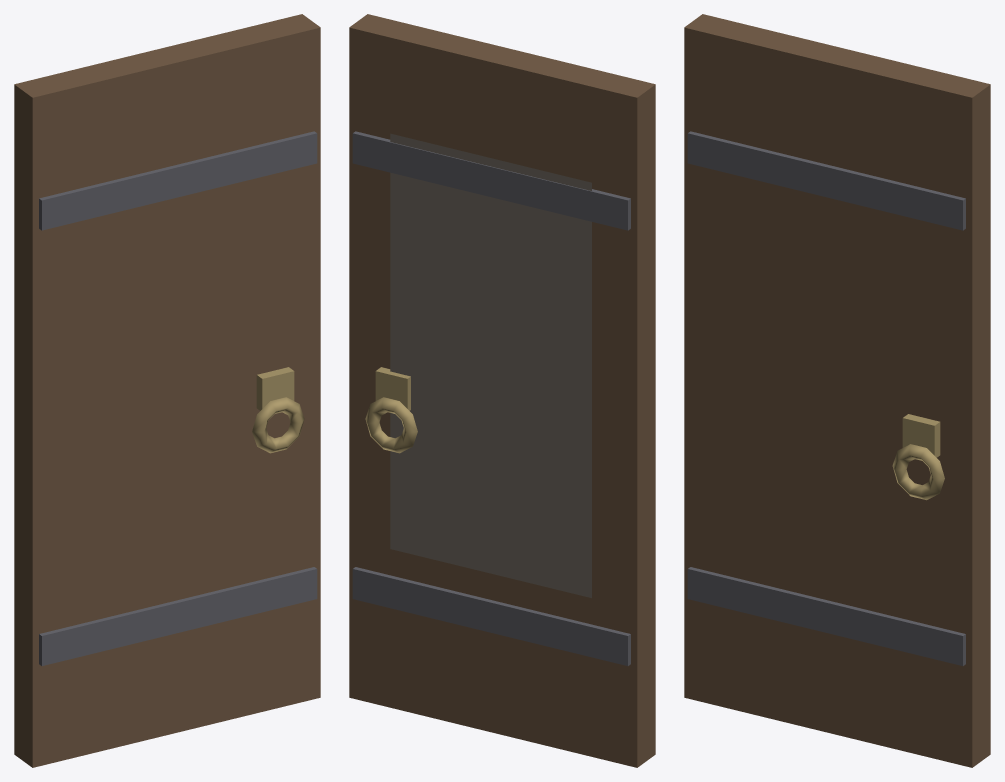
Rendered from PortraitDoorLeaf.fbx.
3 renders of one model, left to right at view 1: azimuth 30°, elevation 25°; view 2: azimuth 150°, elevation 25°; view 3: azimuth 330°, elevation 25°, orthographic.
Visible parts, largest first — view 1: PortraitDoorLeaf; view 2: PortraitDoorLeaf, Canvas; view 3: PortraitDoorLeaf.
Boxes of the visible parts, x1,y1,x2,y2 form: PortraitDoorLeaf: (14, 14, 320, 767); PortraitDoorLeaf: (349, 14, 655, 767); Canvas: (390, 133, 591, 597); PortraitDoorLeaf: (684, 14, 990, 767).
Bounding box in the file's own units: 0.9 × 2 × 0.204.
